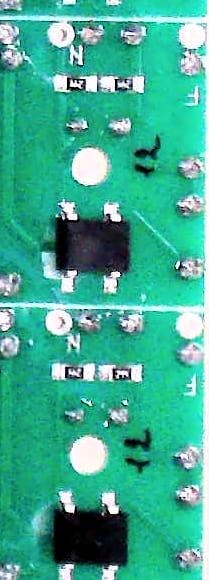chip-resistor: (101, 77, 144, 93), (99, 365, 142, 381), (52, 365, 95, 380), (56, 76, 96, 92)
ic: (55, 200, 131, 294), (52, 489, 129, 579)
